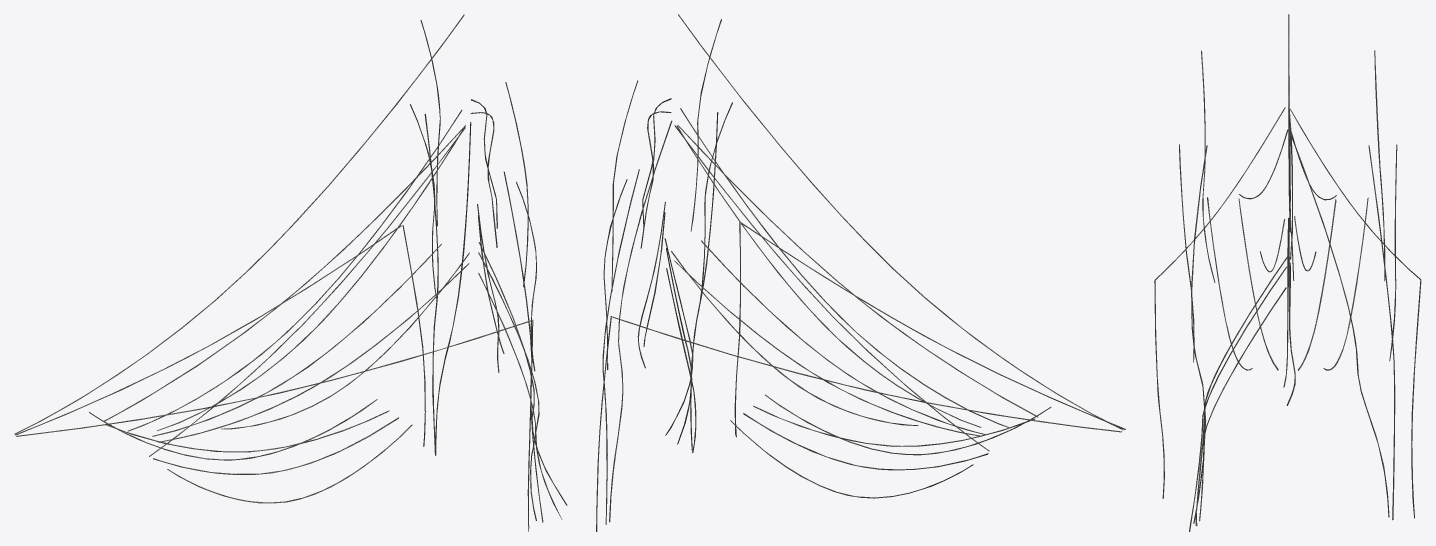
The model's file is SM_ship_4_rope_1.fbx.
3 renders of one model, left to right at view 1: azimuth 30°, elevation 25°; view 2: azimuth 150°, elevation 25°; view 3: azimuth 270°, elevation 25°, orthographic. The views are drawn at different scales.
Parts seen in each view (by area): view 1: SM_ship_4_rope_1; view 2: SM_ship_4_rope_1; view 3: SM_ship_4_rope_1.
Boxes of the visible parts, x1=… form: SM_ship_4_rope_1: x1=14, y1=14, x2=567, y2=531; SM_ship_4_rope_1: x1=596, y1=14, x2=1125, y2=531; SM_ship_4_rope_1: x1=1154, y1=14, x2=1421, y2=531.
Bounding box in the file's own units: 3054 × 1359 × 2781.
1 material, 1 textured.
